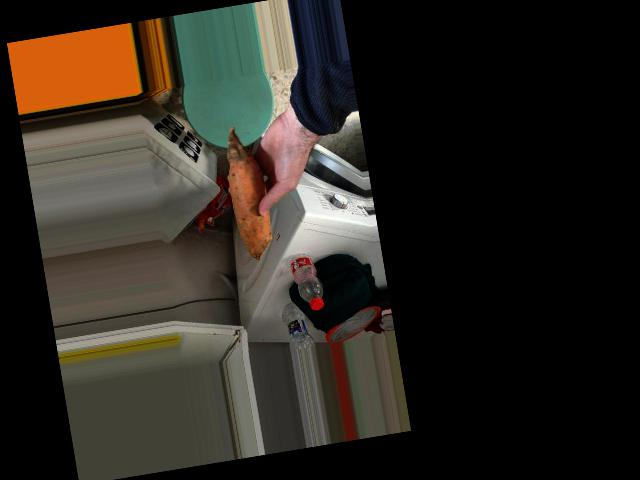sweet_potato: (222, 135, 278, 246)
